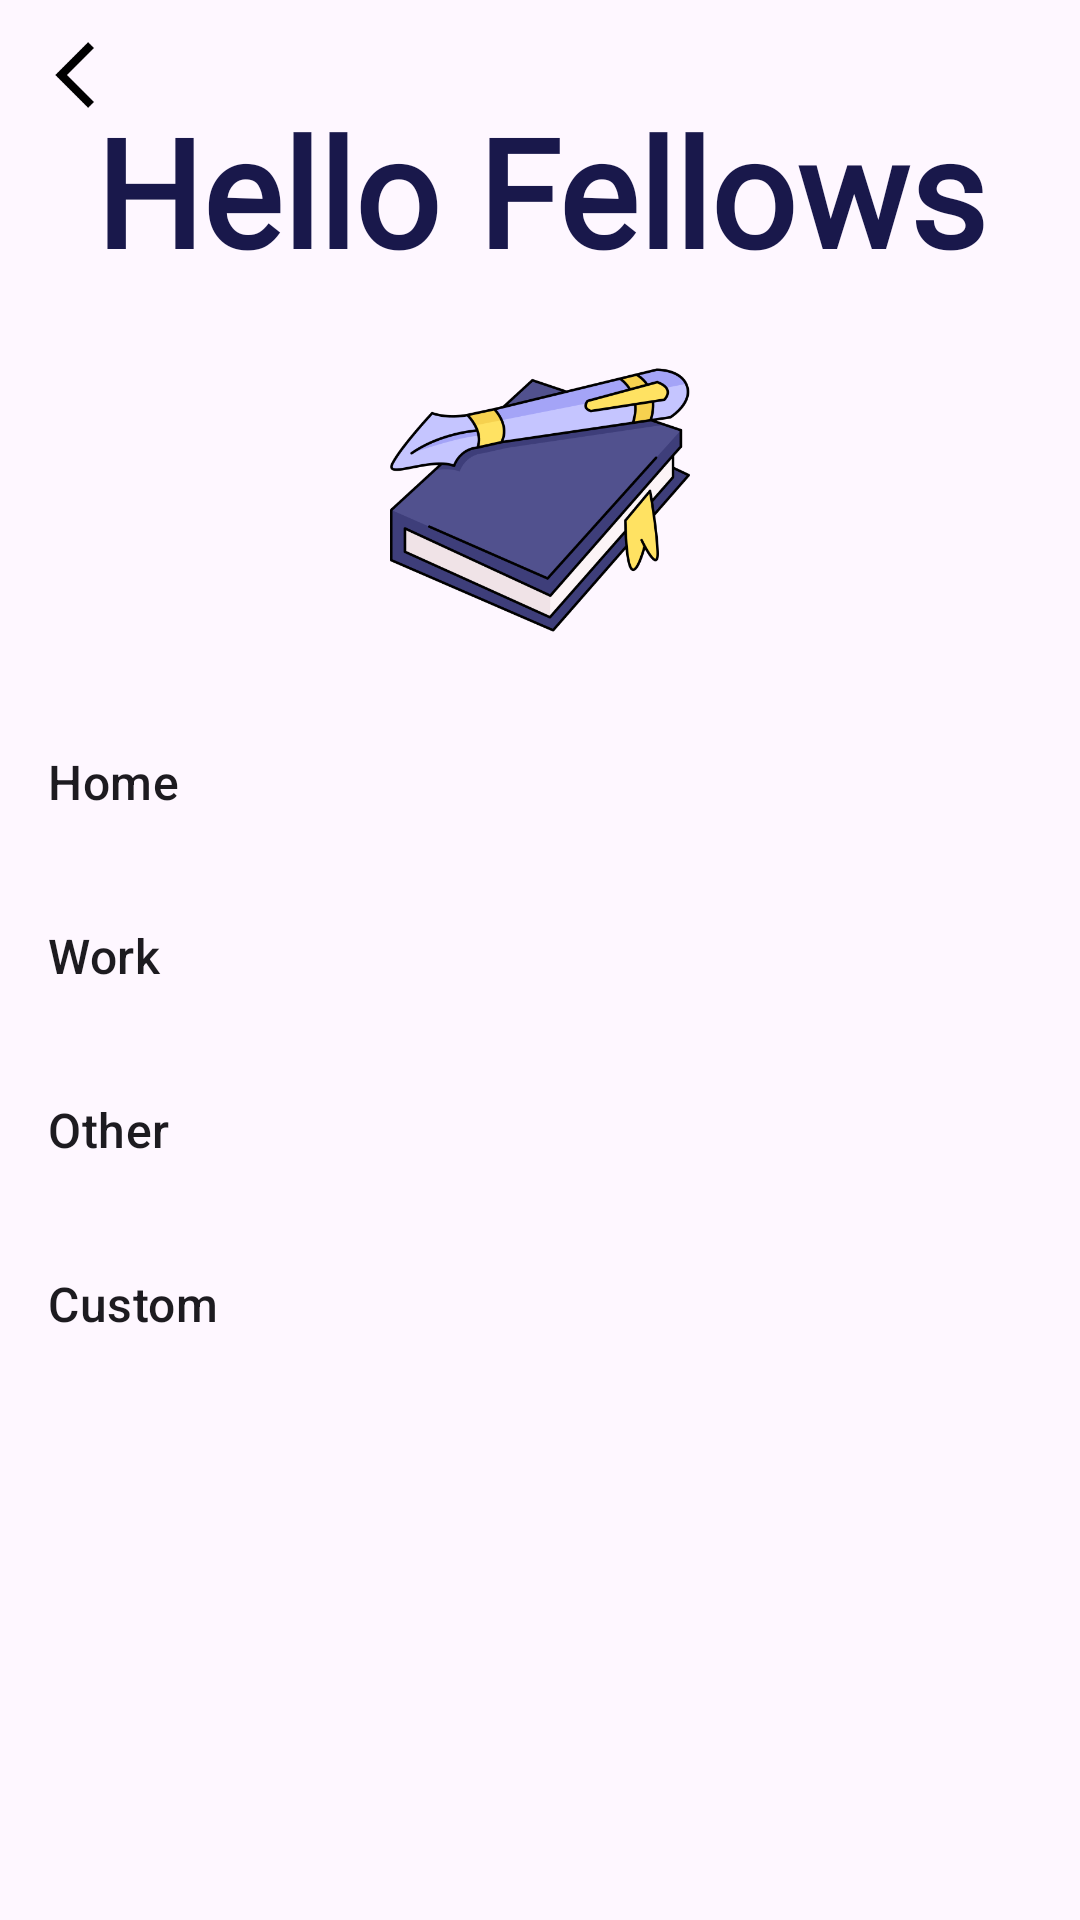

Point at icon controls on the screen. Image size 1080w x 1920h, points as [x,y].
back: [74,75]
